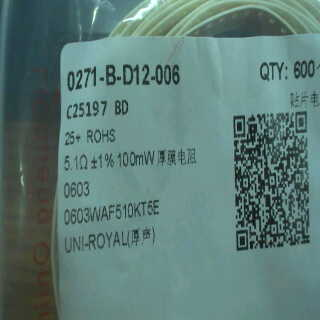5.1R: (64, 151, 90, 173)
